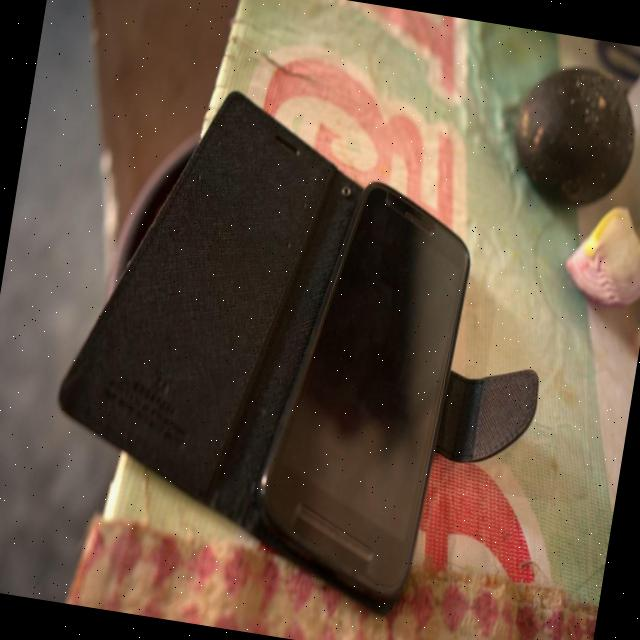Phone: (241, 171, 480, 614)
